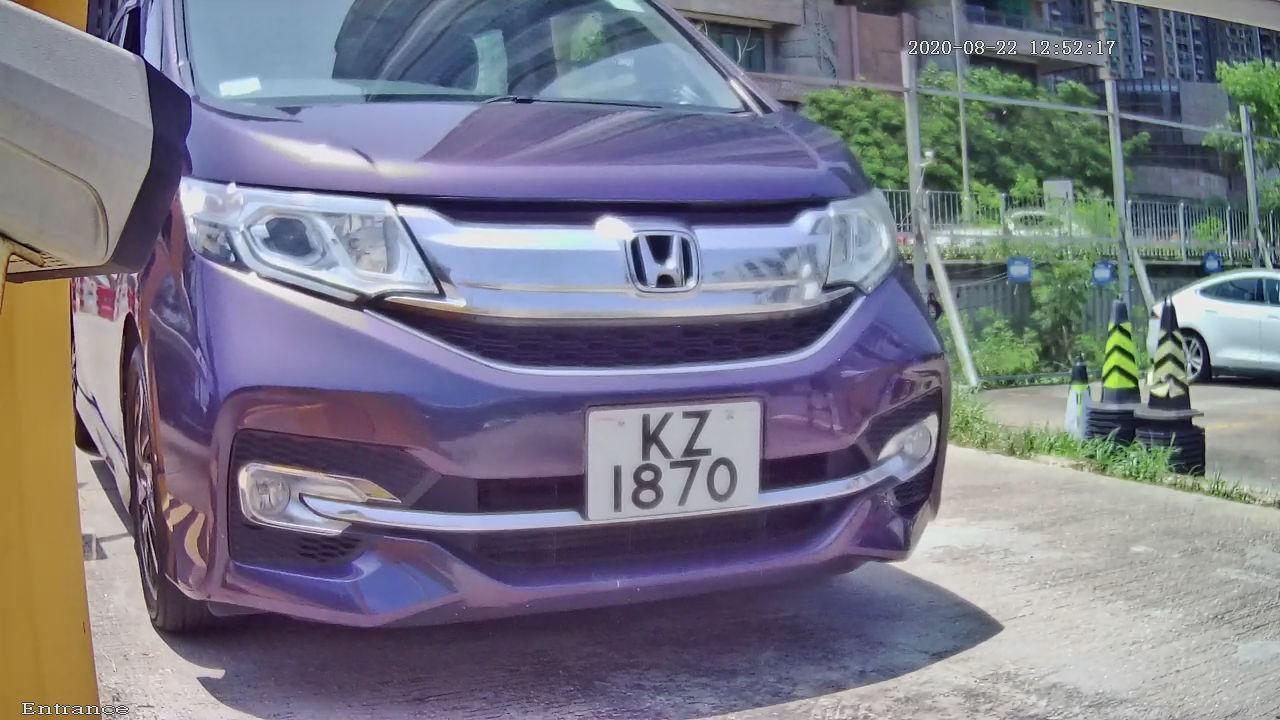License Plate: (566, 383, 778, 531)
